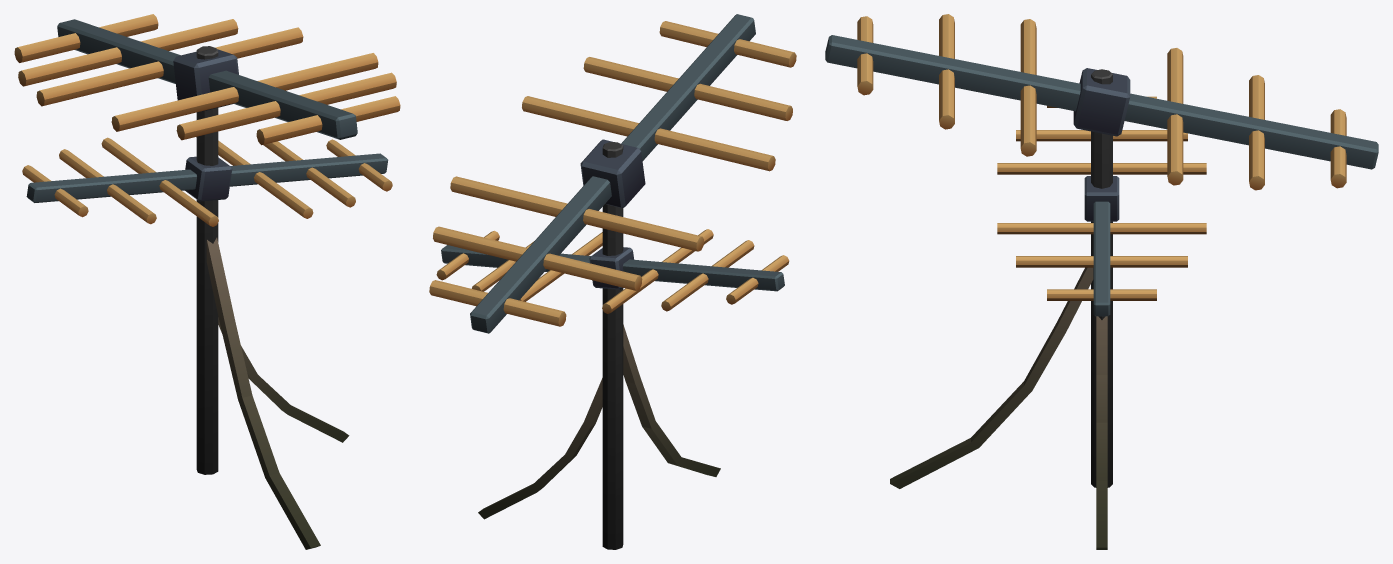
File: sp_build_prop_antena.fbx
3 renders of one model, left to right at view 1: azimuth 30°, elevation 25°; view 2: azimuth 150°, elevation 25°; view 3: azimuth 270°, elevation 25°, orthographic. The views are drawn at different scales.
Visible parts, largest first — view 1: build_prop_antena; view 2: build_prop_antena; view 3: build_prop_antena.
Boxes of the visible parts, x1,y1,x2,y2 form: build_prop_antena: (14, 14, 400, 549); build_prop_antena: (429, 14, 796, 549); build_prop_antena: (825, 14, 1378, 549).
Bounding box in the file's own units: 177 × 218 × 244.
